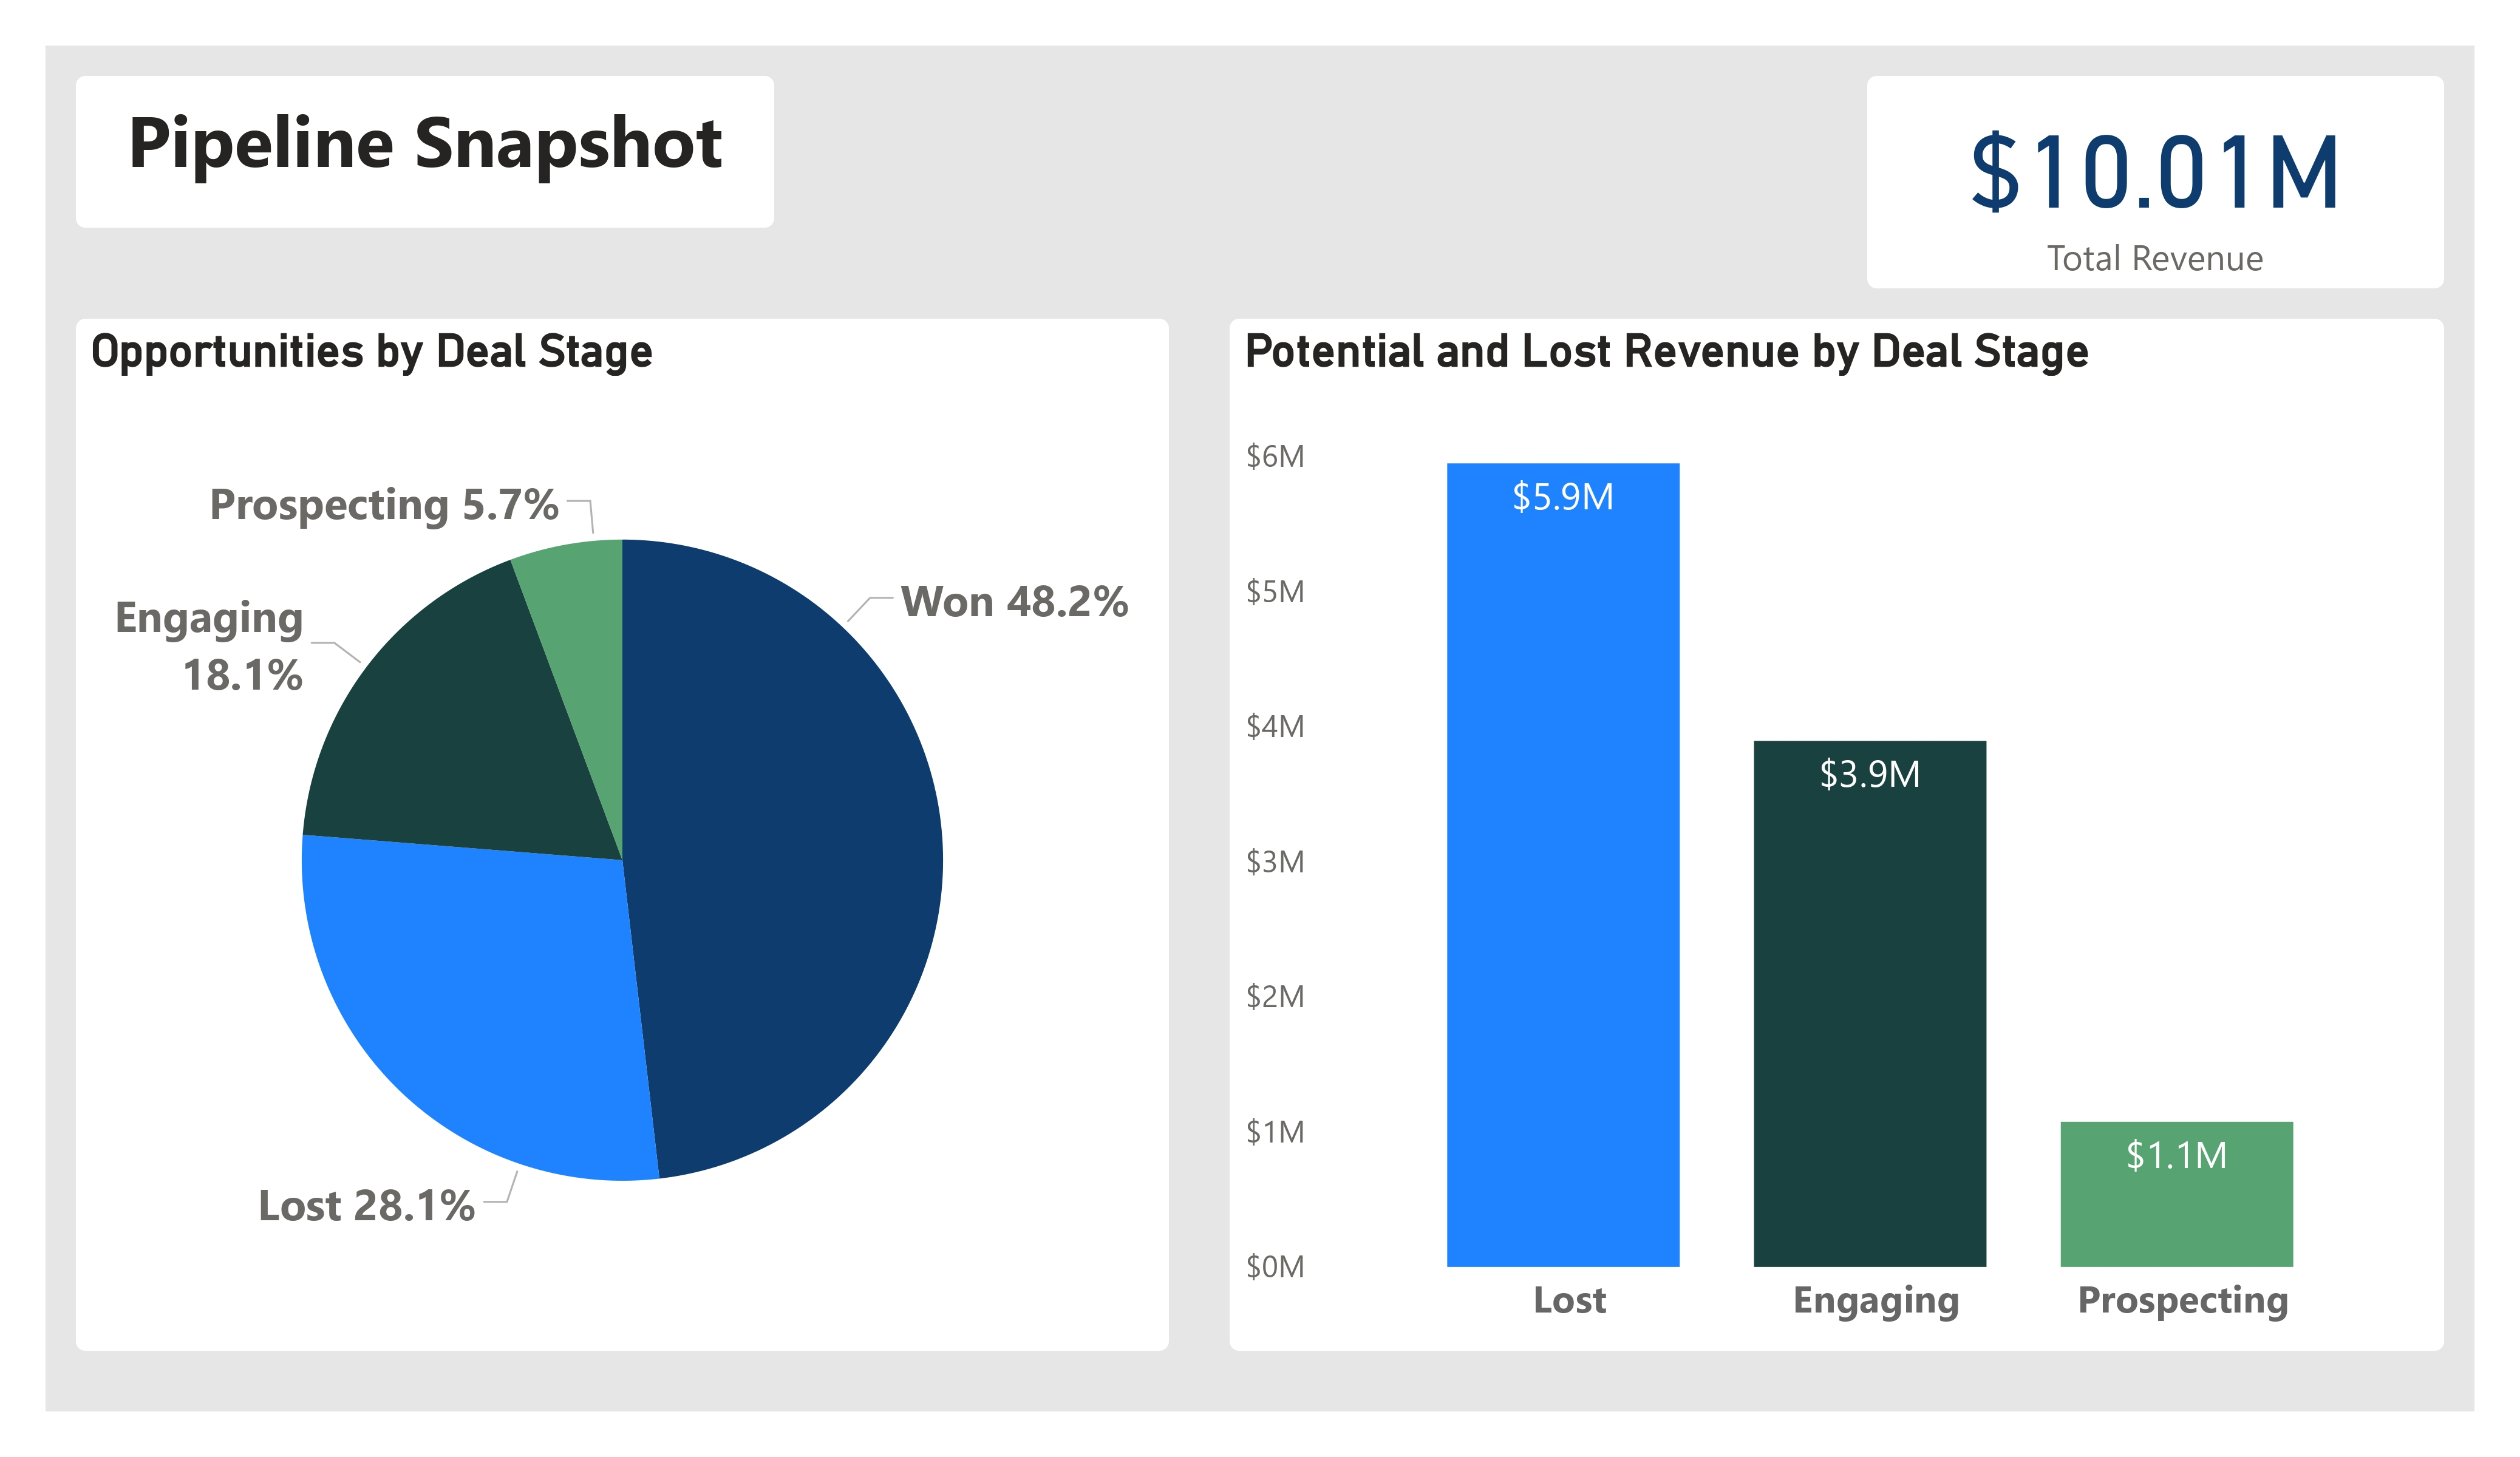

Layout of this report page (visuals, bound fields, positions):
{"tool":"powerbi","page":{"name":"Pipeline Snapshot","canvas":[1280,720],"ordinal":0},"visuals":[{"type":"pieChart","title":"Opportunities by Deal Stage","fields":{"Y":["Sum(Opportunities by Deal Stage.Opportunity Count)"],"Category":["Opportunities by Deal Stage.Deal Stage"]},"box":[16,144,576,544],"z":0},{"type":"clusteredColumnChart","title":"Potential and Lost Revenue by Deal Stage","fields":{"Category":["Revenue by Deal Stage.Deal Stage"],"Y":["Sum(Revenue by Deal Stage.Potential Revenue)"]},"box":[624,144,640,544],"z":1000},{"type":"textbox","box":[16,16,368,80],"z":2000},{"type":"card","fields":{"Values":["Sum(Monthly Revenue and Running Total.Running Total)"]},"box":[960,16,304,112],"z":3000}]}

Visuals, with their boxes in screenshot pixels (x1, y1, x2, y2):
"Opportunities by Deal Stage" pieChart: pyautogui.locateOnScreen(76, 319, 1169, 1351)
"Potential and Lost Revenue by Deal Stage" clusteredColumnChart: pyautogui.locateOnScreen(1230, 319, 2444, 1351)
textbox: pyautogui.locateOnScreen(76, 76, 774, 228)
card - Sum(Monthly Revenue and Running Total.Running Total): pyautogui.locateOnScreen(1867, 76, 2444, 288)
